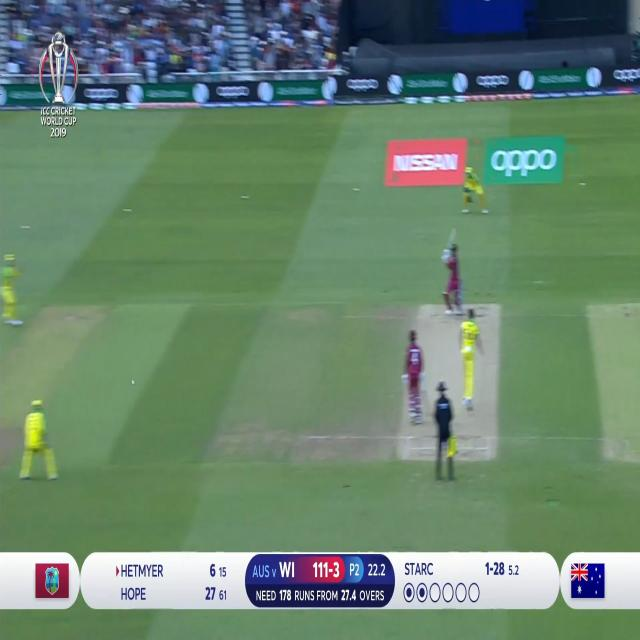ball: (126, 372, 140, 392)
